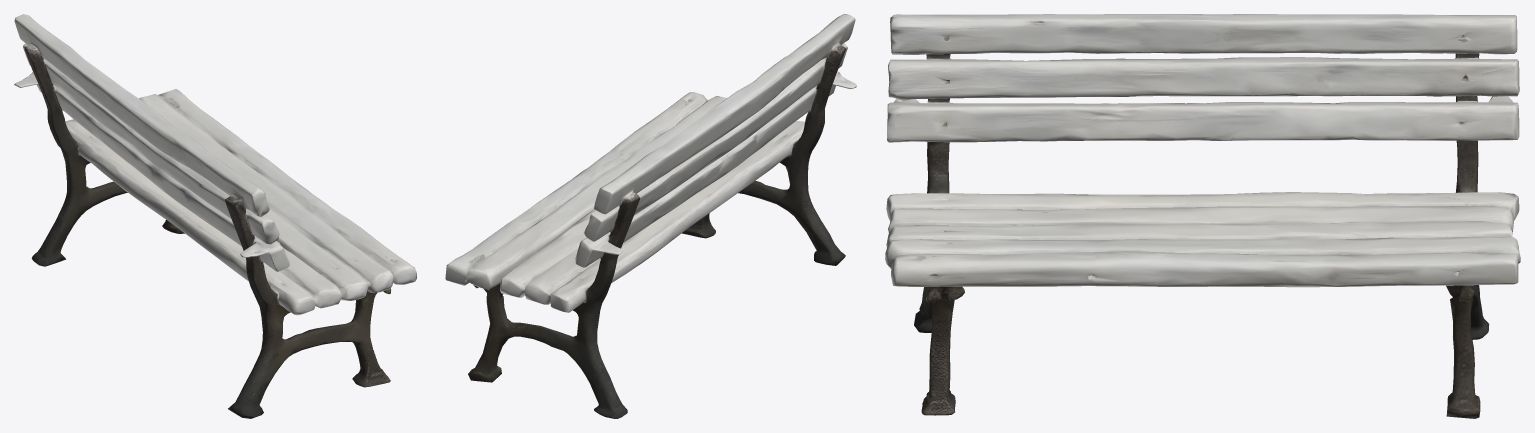
The model's file is klupa-bijela.glb.
3 views of the same model, side by side, from view 1: azimuth 30°, elevation 25°; view 2: azimuth 150°, elevation 25°; view 3: azimuth 270°, elevation 25° (orthographic). The views are drawn at different scales.
Parts seen in each view (by area): view 1: tripo_node_2f051528-e5ed-4d70-88d4-3f8f37b219e7; view 2: tripo_node_2f051528-e5ed-4d70-88d4-3f8f37b219e7; view 3: tripo_node_2f051528-e5ed-4d70-88d4-3f8f37b219e7.
Part boxes in pixels (x1=…): tripo_node_2f051528-e5ed-4d70-88d4-3f8f37b219e7: x1=14, y1=14, x2=416, y2=418; tripo_node_2f051528-e5ed-4d70-88d4-3f8f37b219e7: x1=445, y1=14, x2=856, y2=418; tripo_node_2f051528-e5ed-4d70-88d4-3f8f37b219e7: x1=885, y1=14, x2=1520, y2=418.
Bounding box in the file's own units: 0.4045 × 0.5245 × 0.981.
1 material, 1 textured.
